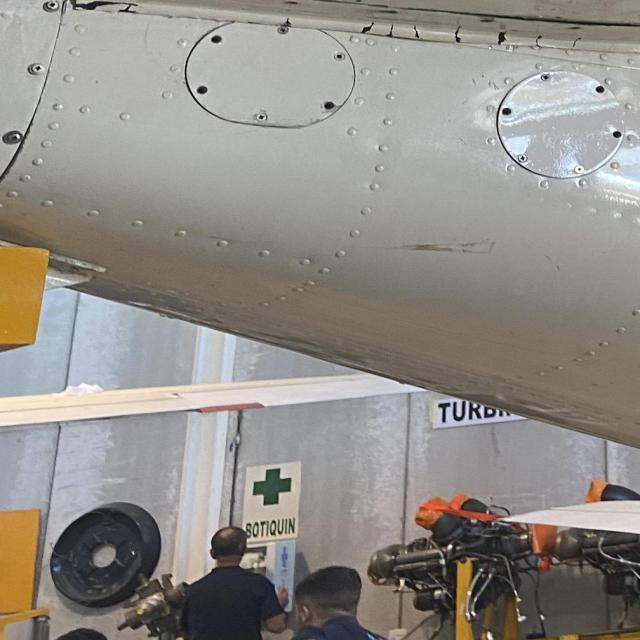Missing-head: (499, 106, 516, 118), (195, 85, 209, 96), (593, 84, 606, 94), (322, 101, 335, 110), (210, 35, 222, 44), (610, 130, 622, 138)
